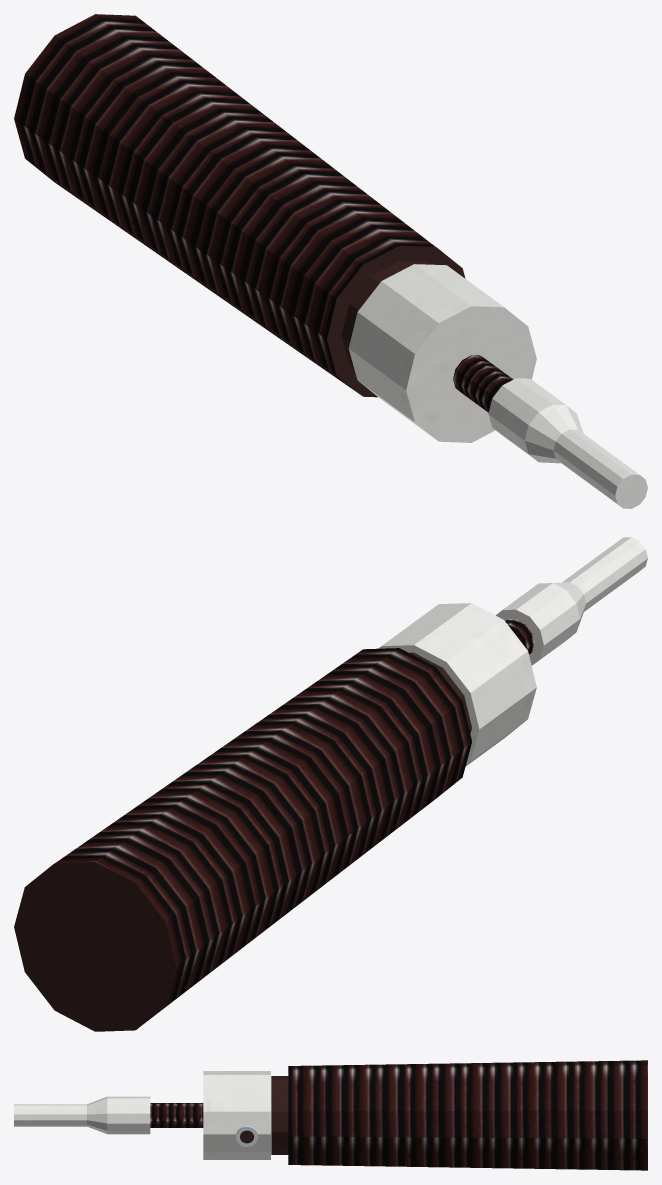
The model's file is 35kvtg016-geode.glb.
3 renders of one model, top to bottom at view 1: azimuth 30°, elevation 25°; view 2: azimuth 150°, elevation 25°; view 3: azimuth 270°, elevation 25°, orthographic. The views are drawn at different scales.
Visible parts, largest first — view 1: Node; view 2: Node; view 3: Node.
Part boxes in pixels (box(x1,y1,x2,y2)): Node: box(14, 14, 647, 508); Node: box(14, 537, 647, 1031); Node: box(14, 1060, 647, 1170).
Size of the model in its own units: 0.2953 by 0.2953 by 1.69.
4 materials, 4 textured.
